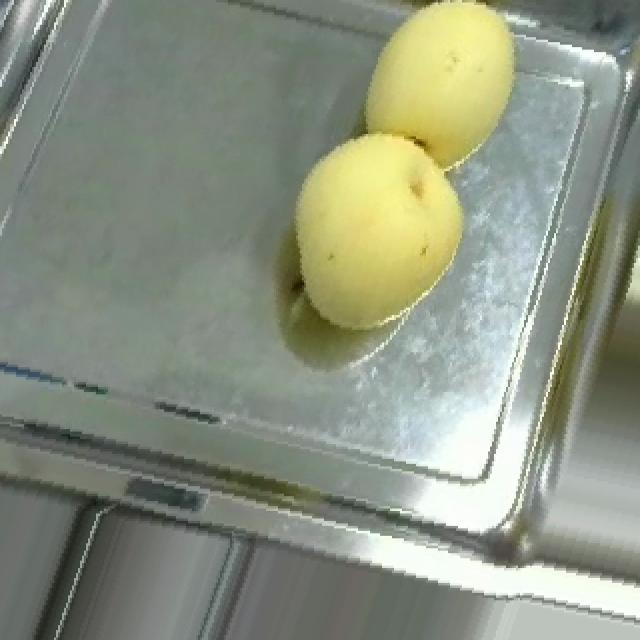Fruit: (256, 106, 492, 354), (336, 0, 544, 189)
